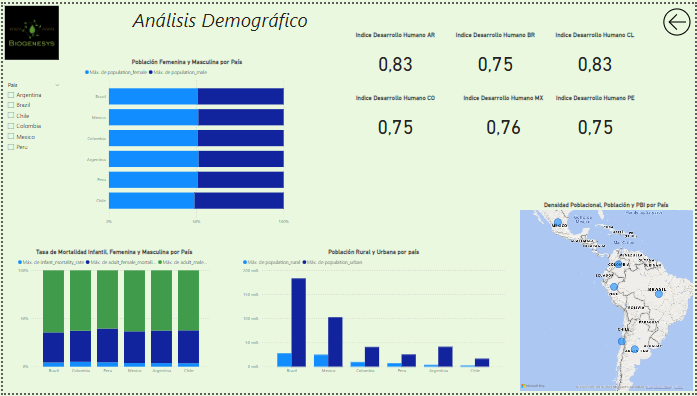

This screenshot's page, from the dashboard's own definition file:
{"tool":"powerbi","page":{"name":"DEMOGRAFÍA","canvas":[1920,1080],"ordinal":3},"visuals":[{"type":"map","title":"Densidad Poblacional, Población y PBI por País","fields":{"Category":["DatosFinales.location_key"]},"box":[1430,546.7,490,533.3],"z":0},{"type":"textbox","box":[307.5,0,590,100],"z":1000},{"type":"hundredPercentStackedBarChart","title":"Población Femenina y Masculina por País","fields":{"Category":["DatosFinales.country_name"],"Y":["Max(DatosFinales.population_female)","Max(DatosFinales.population_male)"]},"box":[222.5,150,577.5,472.5],"z":2000},{"type":"hundredPercentStackedColumnChart","title":"Tasa de Mortalidad Infantil, Femenina y Masculina por País","fields":{"Y":["Max(DatosFinales.infant_mortality_rate)","Max(DatosFinales.adult_female_mortality_rate)","Max(DatosFinales.adult_male_mortality_rate)"],"Category":["DatosFinales.country_name"]},"box":[35,677.5,545,360],"z":3000},{"type":"clusteredColumnChart","title":"Población Rural y Urbana por país","fields":{"Y":["Max(DatosFinales.population_rural)","Max(DatosFinales.population_urban)"],"Category":["DatosFinales.country_name"]},"box":[660,677.5,737.5,360],"z":4000},{"type":"card","title":"Indice Desarrollo Humano BR","fields":{"Values":["Medidas.Indice Desarrollo Humano BR"]},"box":[1237.5,75,257.5,150],"z":5000},{"type":"card","title":"Indice Desarrollo Humano MX","fields":{"Values":["Medidas.Indice Desarrollo Humano MX"]},"box":[1260,250,257.5,150],"z":6000},{"type":"card","title":"Indice Desarrollo Humano PE","fields":{"Values":["Medidas.Indice Desarrollo Humano PE"]},"box":[1517.5,250,257.5,150],"z":7000},{"type":"card","title":"Indice Desarrollo Humano CL","fields":{"Values":["Medidas.Indice Desarrollo Humano CL"]},"box":[1517.5,75,255,150],"z":8000},{"type":"card","title":"Indice Desarrollo Humano AR","fields":{"Values":["Medidas.Indice Desarrollo Humano AR"]},"box":[960,75,257.5,150],"z":9000},{"type":"card","title":"Indice Desarrollo Humano CO","fields":{"Values":["Medidas.Indice Desarrollo Humano CO"]},"box":[960,250,257.5,150],"z":10000},{"type":"actionButton","box":[1826,0,94,100],"z":11000},{"type":"slicer","fields":{"Values":["DatosFinales.country_name"]},"box":[0,212.5,170,222.5],"z":12000},{"type":"image","box":[0,0,160,160],"z":13000}]}

Visuals, with their boxes in screenshot pixels (x1, y1, x2, y2), scaled from the page's 1920x1080 canvas onto the 697x396 screenshot:
"Densidad Poblacional, Población y PBI por País" map: <region>519, 200, 696, 395</region>
textbox: <region>112, 0, 326, 37</region>
"Población Femenina y Masculina por País" hundredPercentStackedBarChart: <region>81, 55, 290, 228</region>
"Tasa de Mortalidad Infantil, Femenina y Masculina por País" hundredPercentStackedColumnChart: <region>13, 248, 211, 380</region>
"Población Rural y Urbana por país" clusteredColumnChart: <region>240, 248, 507, 380</region>
"Indice Desarrollo Humano BR" card: <region>449, 27, 543, 82</region>
"Indice Desarrollo Humano MX" card: <region>457, 92, 551, 147</region>
"Indice Desarrollo Humano PE" card: <region>551, 92, 644, 147</region>
"Indice Desarrollo Humano CL" card: <region>551, 27, 643, 82</region>
"Indice Desarrollo Humano AR" card: <region>348, 27, 442, 82</region>
"Indice Desarrollo Humano CO" card: <region>348, 92, 442, 147</region>
actionButton: <region>663, 0, 696, 37</region>
slicer - DatosFinales.country_name: <region>0, 78, 62, 160</region>
image: <region>0, 0, 58, 59</region>
